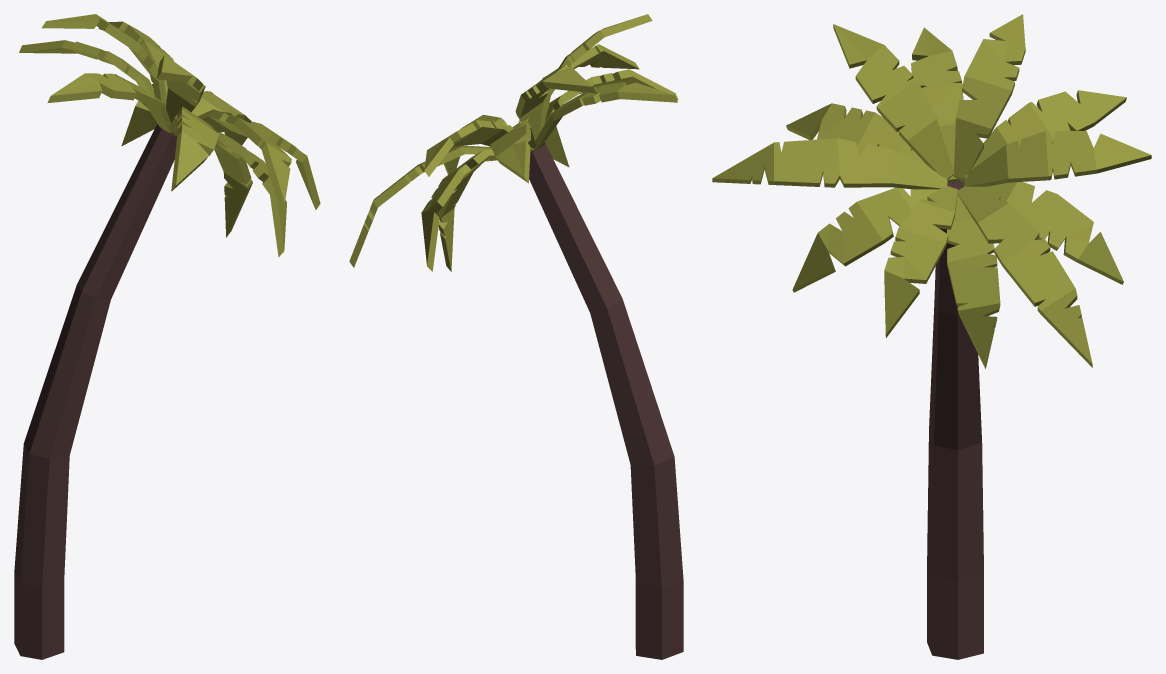
Rendered from palm_tree_2.glb.
The picture shows the model from 3 angles, left to right: view 1: azimuth 30°, elevation 25°; view 2: azimuth 150°, elevation 25°; view 3: azimuth 270°, elevation 25°; orthographic projection. The views are drawn at different scales.
Visible parts, largest first — view 1: treetype3_2.381; view 2: treetype3_2.381; view 3: treetype3_2.381.
Part boxes in pixels (x1,y1,x2,y2): treetype3_2.381: [14, 14, 320, 659]; treetype3_2.381: [349, 14, 683, 659]; treetype3_2.381: [712, 14, 1151, 659].
Bounding box in the file's own units: 4.12 × 8.43 × 5.09.
1 material, 1 textured.
